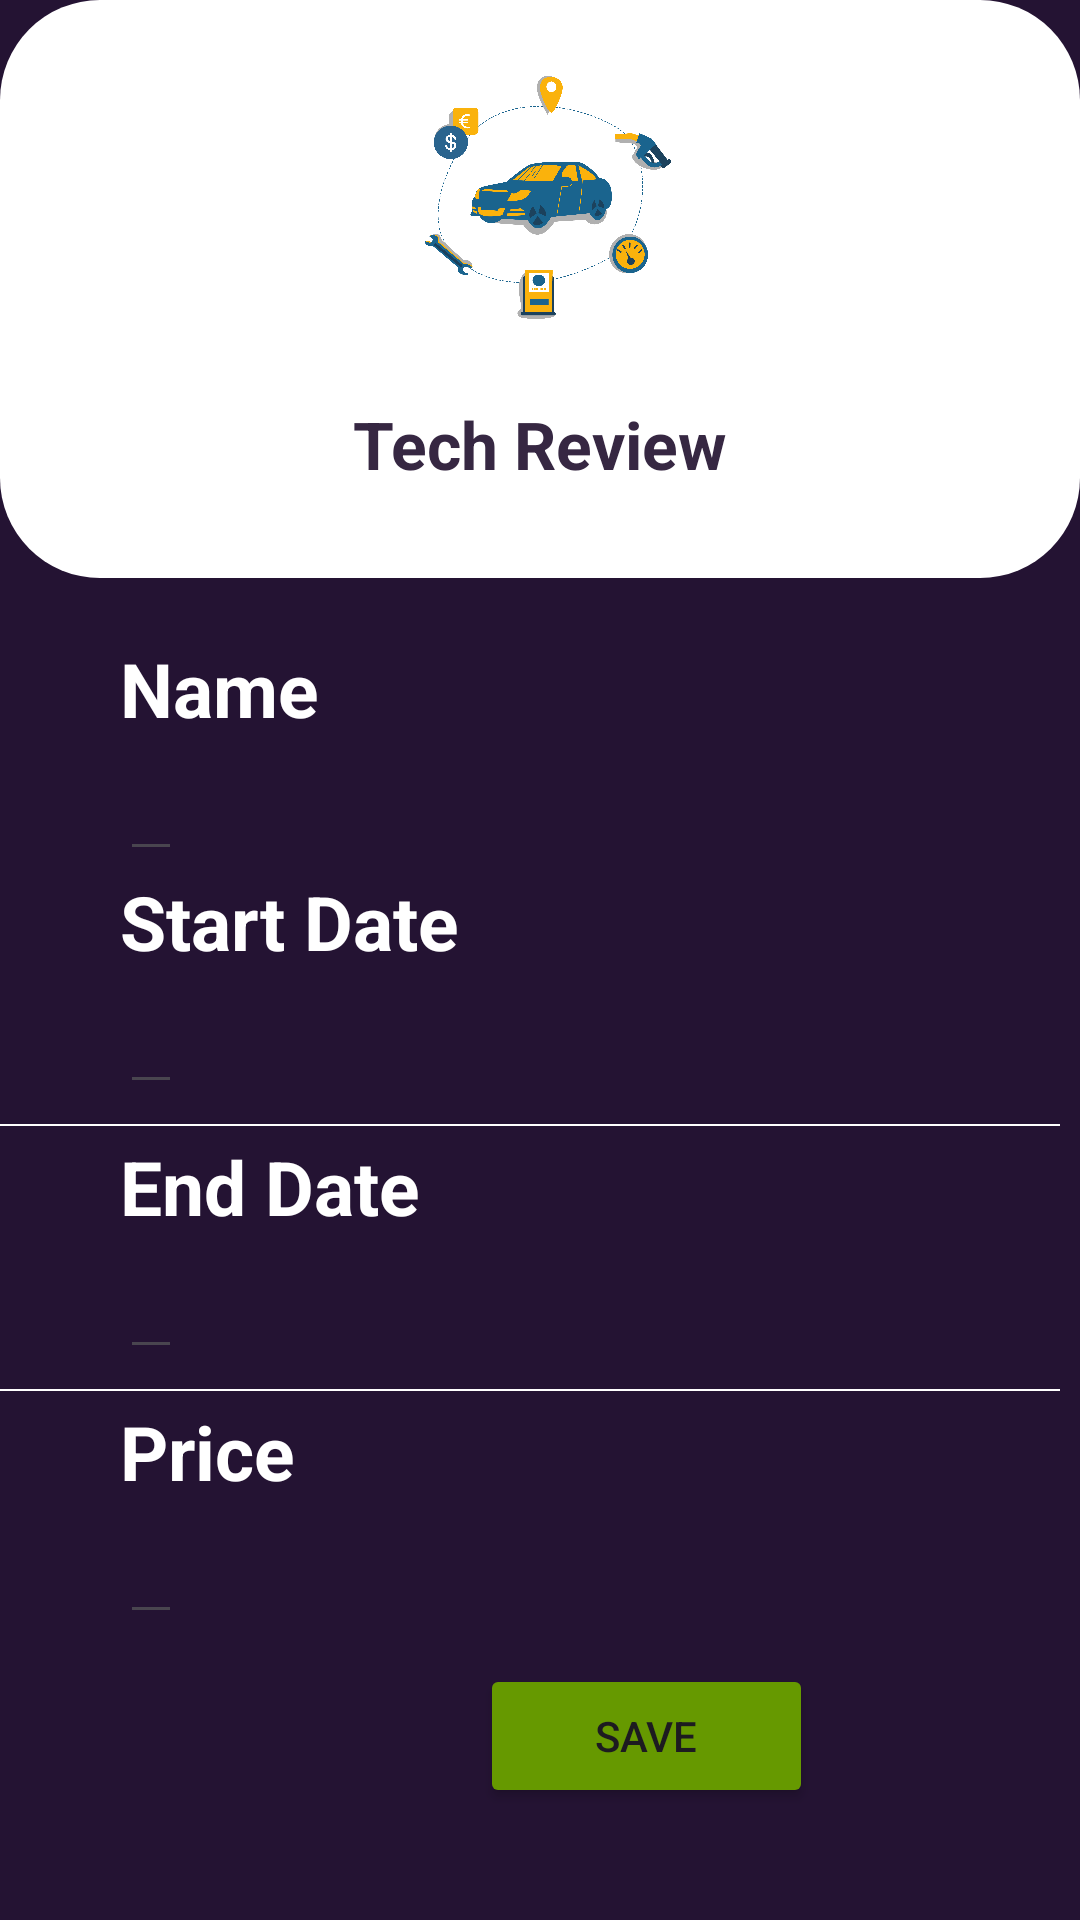

Named icons in this screenshot (1080 × 1920) and their centers, (x=x, y=y):
carinfo: (x=548, y=197)
